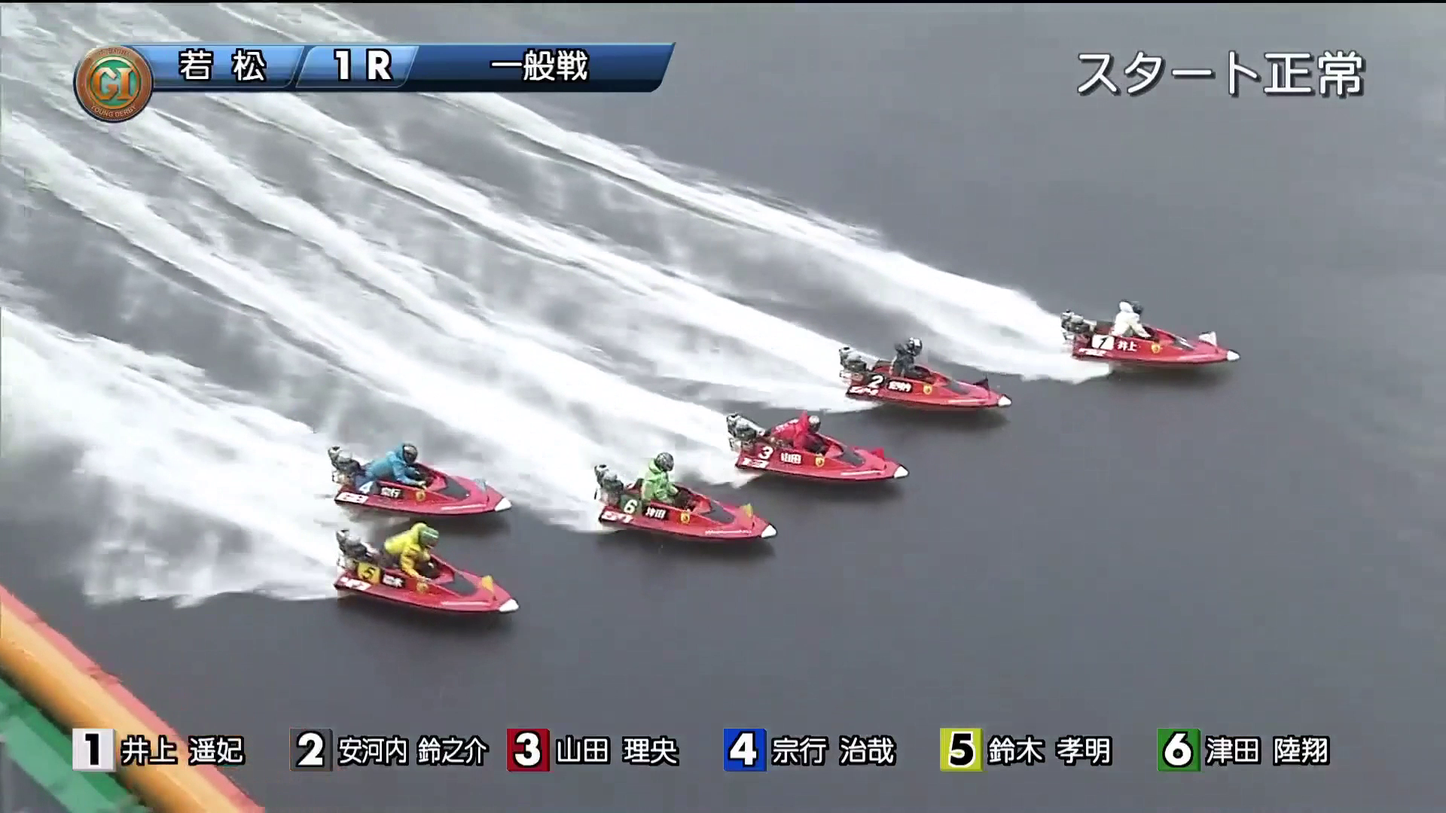１号艇: (1059, 320, 1197, 373)
２号艇: (838, 350, 967, 410)
３号艇: (763, 427, 903, 470)
４号艇: (616, 472, 736, 537)
５号艇: (347, 457, 471, 512)
６号艇: (414, 559, 513, 616)
